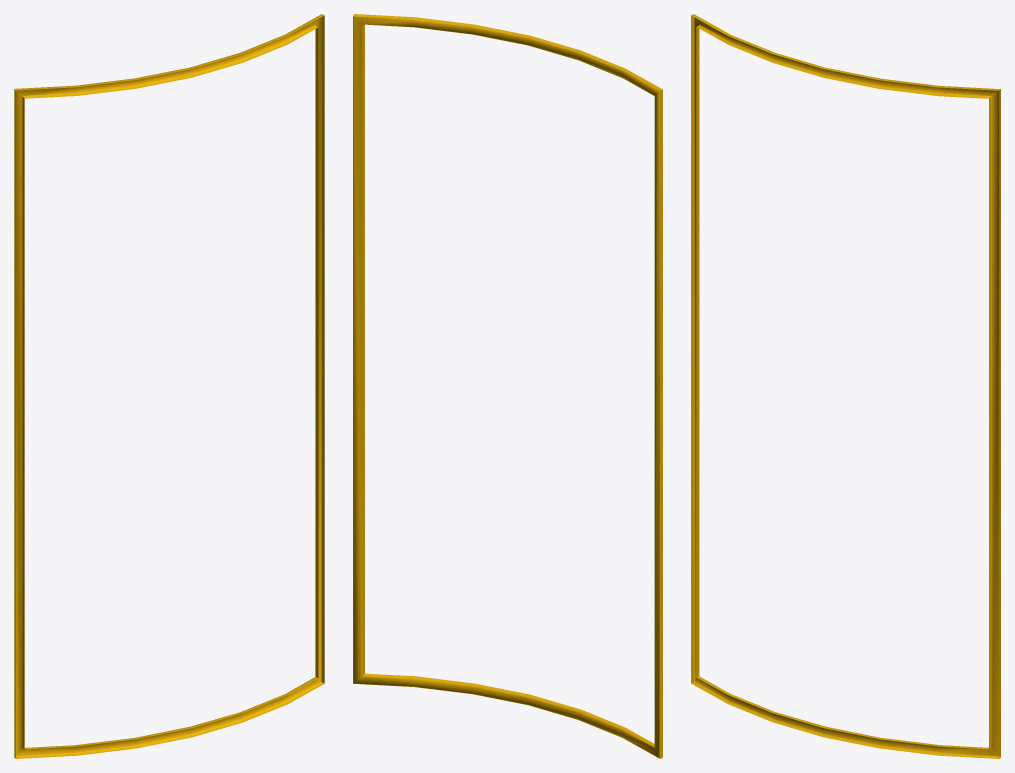
The model's file is ARC0510105.fbx.
The picture shows the model from 3 angles, left to right: view 1: azimuth 30°, elevation 25°; view 2: azimuth 150°, elevation 25°; view 3: azimuth 330°, elevation 25°; orthographic projection.
Parts seen in each view (by area): view 1: smARC0510105; view 2: smARC0510105; view 3: smARC0510105.
Part boxes in pixels (x1=…): smARC0510105: x1=14, y1=14, x2=324, y2=758; smARC0510105: x1=353, y1=14, x2=662, y2=758; smARC0510105: x1=691, y1=14, x2=1000, y2=758.
Size of the model in its own units: 263 by 544 by 36.26.
Materials: 1 (1 with a texture image).
